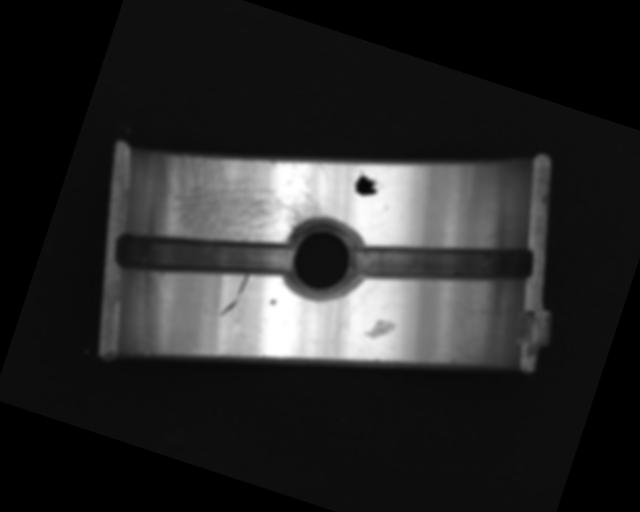blot: (350, 169, 386, 201)
bruise: (364, 314, 397, 344), (269, 298, 277, 307)
gap: (108, 194, 298, 318), (350, 200, 536, 325)
hole: (274, 210, 372, 309)
nick: (219, 270, 250, 321)
scratch: (138, 118, 342, 280)
